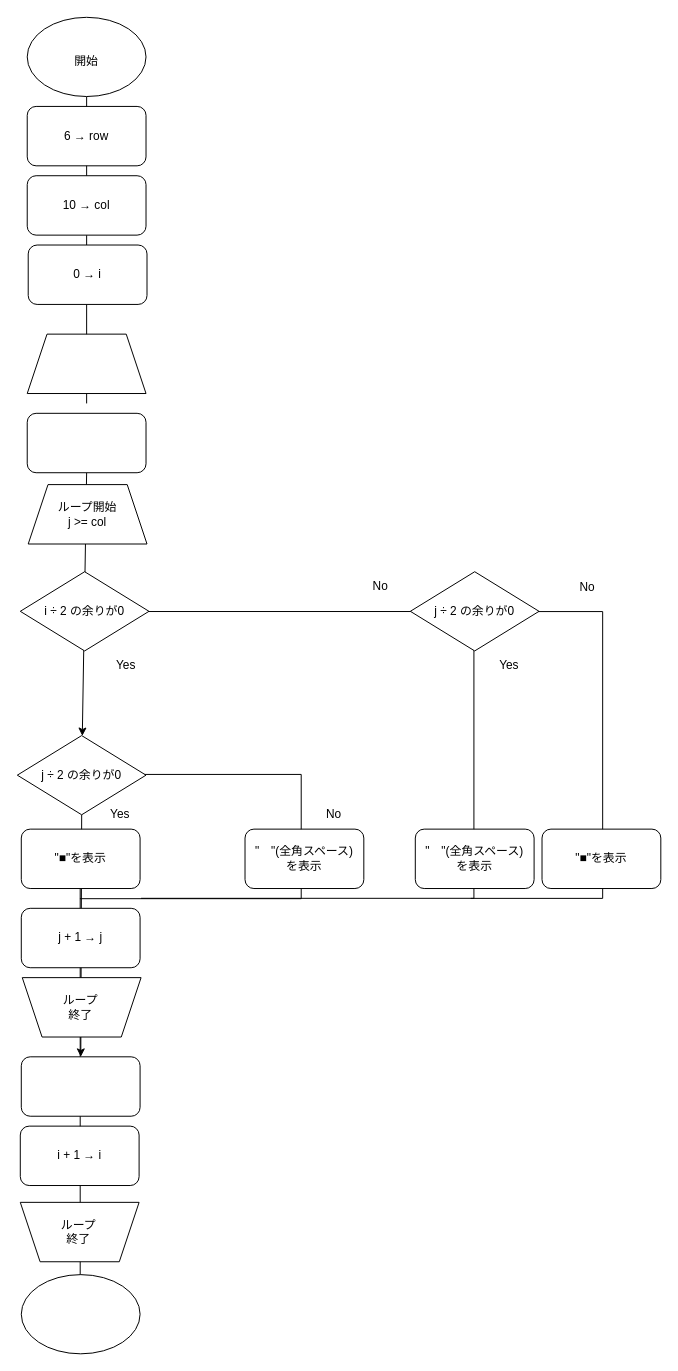
Image size: 678x1371. Some labels were removed from this diagram. The centre of each missing label's shape, as x and y in pixels:
0 → j: point (86, 442)
ループ開始 i >= row: point (86, 363)
改行: point (80, 1086)
終了: point (80, 1314)
